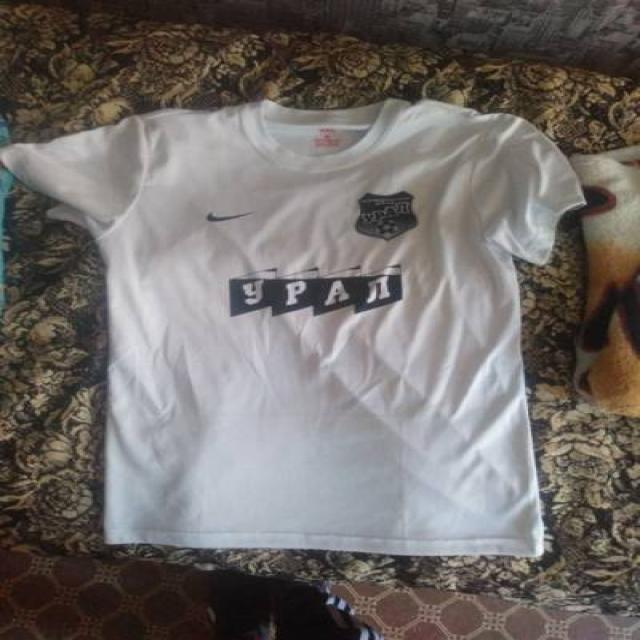Clothes -Biodegradable-: (1, 94, 580, 556), (567, 135, 640, 416)
